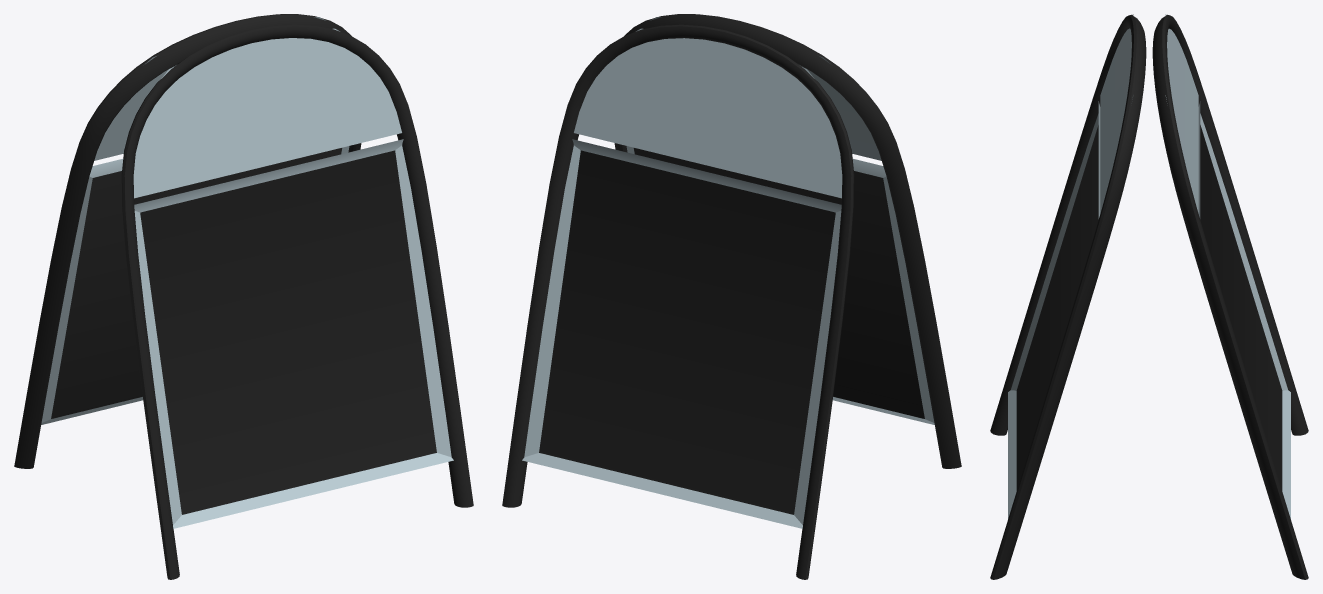
Rendered from mealtable.glb.
The picture shows the model from 3 angles, left to right: view 1: azimuth 30°, elevation 25°; view 2: azimuth 150°, elevation 25°; view 3: azimuth 270°, elevation 25°; orthographic projection.
Parts seen in each view (by area): view 1: mealtable; view 2: mealtable; view 3: mealtable.
Boxes of the visible parts, x1,y1,x2,y2 form: mealtable: [14, 14, 473, 579]; mealtable: [502, 14, 961, 579]; mealtable: [990, 14, 1308, 579].
Size of the model in its own units: 0.7195 by 1.04 by 0.6402.
